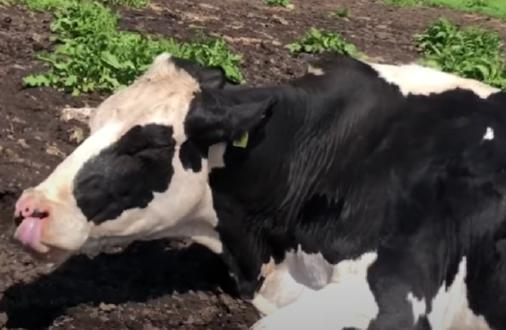cow: (17, 51, 506, 330)
